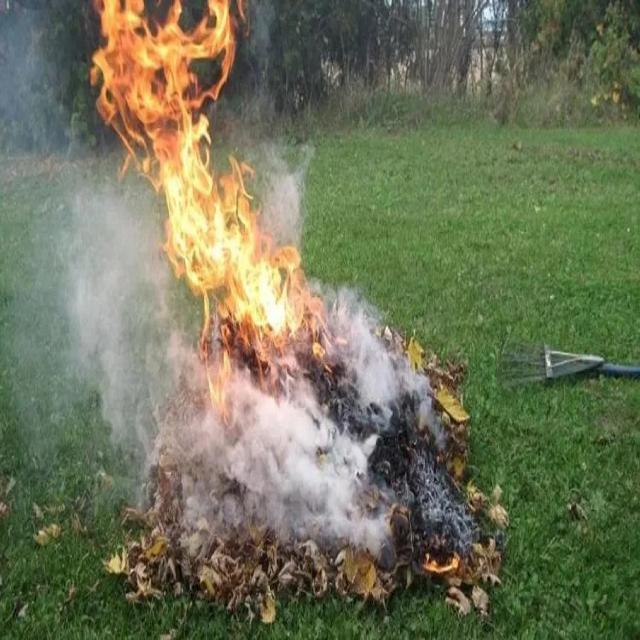Fire: (93, 0, 307, 356), (400, 322, 472, 434)
Smoke: (0, 145, 189, 548), (141, 366, 401, 575)
